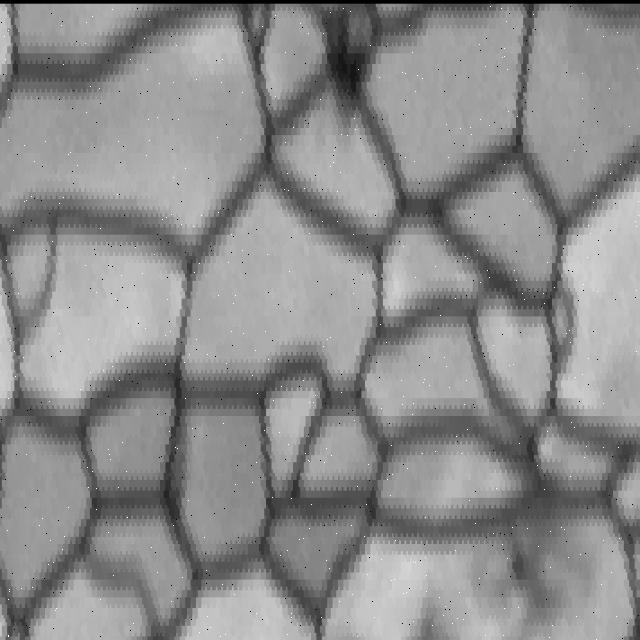good_void: (467, 354, 609, 640), (318, 0, 382, 146)
